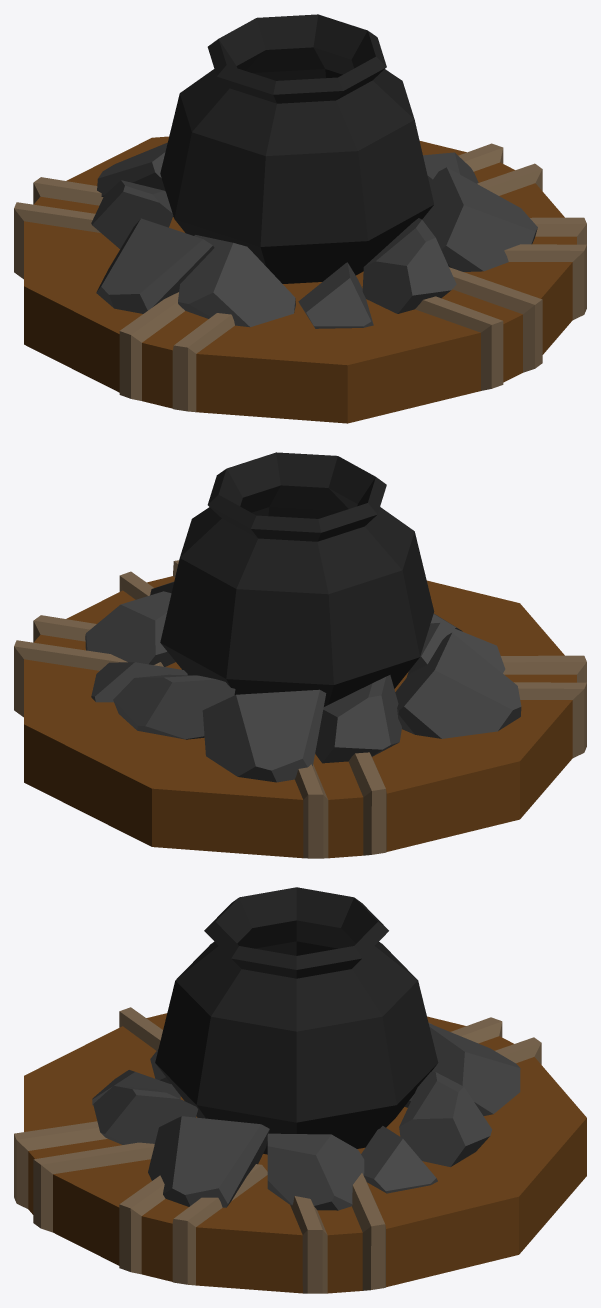
The model's file is Cauldron.fbx.
The picture shows the model from 3 angles, top to bottom: view 1: azimuth 30°, elevation 25°; view 2: azimuth 150°, elevation 25°; view 3: azimuth 270°, elevation 25°; orthographic projection.
Parts seen in each view (by area): view 1: Cauldron; view 2: Cauldron; view 3: Cauldron.
Boxes of the visible parts, box(x1,y1,x2,y2) form: Cauldron: box(14, 14, 586, 423); Cauldron: box(14, 452, 586, 858); Cauldron: box(14, 887, 586, 1293).
Bounding box in the file's own units: 121 × 59.31 × 121.
